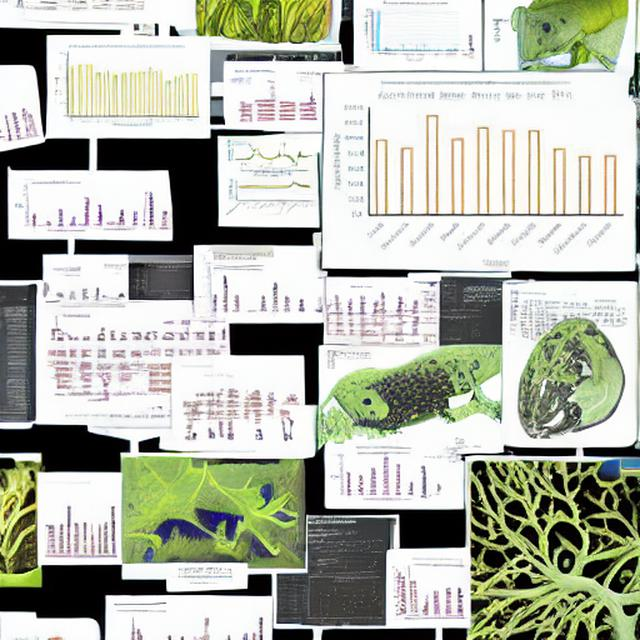Graph: (325, 86, 627, 268), (50, 42, 203, 131), (360, 0, 462, 65), (12, 178, 109, 235), (224, 166, 317, 218), (328, 450, 419, 503), (300, 575, 386, 626), (136, 265, 194, 300)
